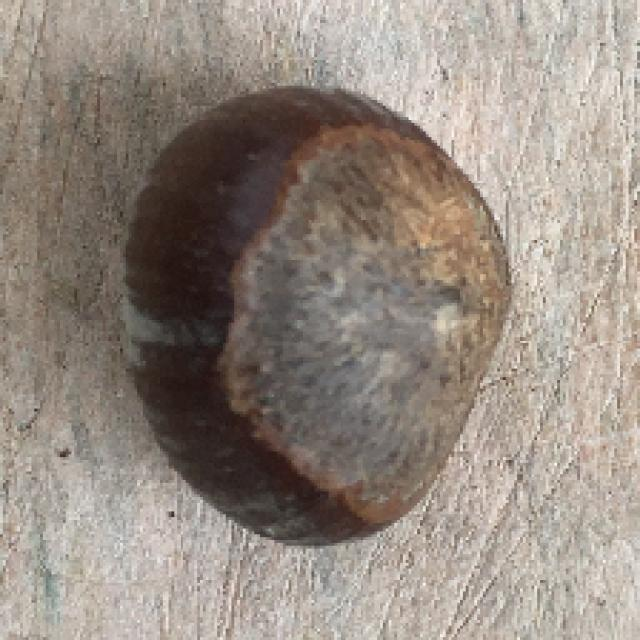damagedHazelnut: (123, 80, 511, 540)
